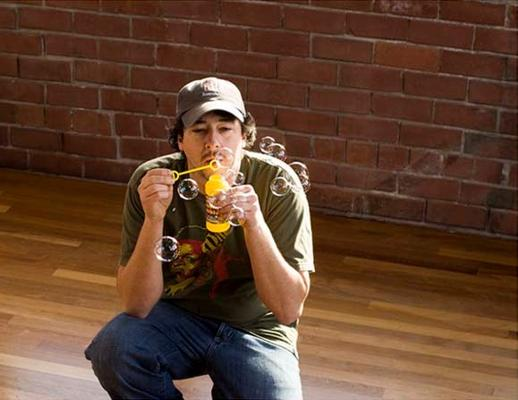person: (83, 76, 317, 400)
